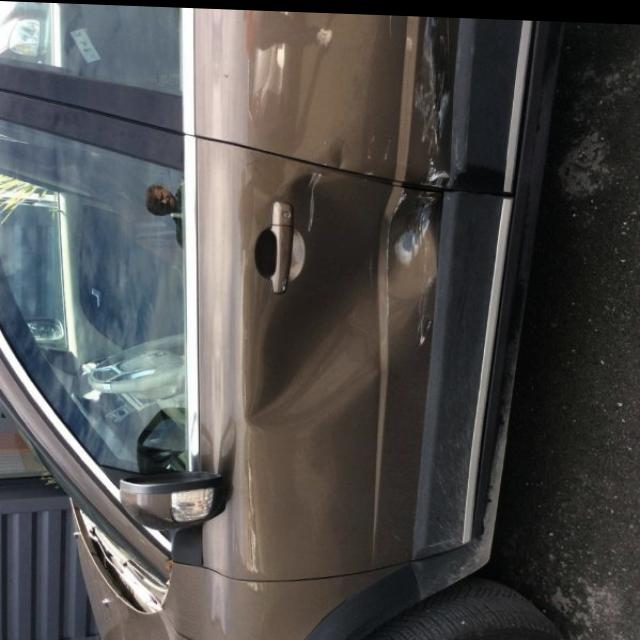porte-avant: (0, 87, 518, 590)
